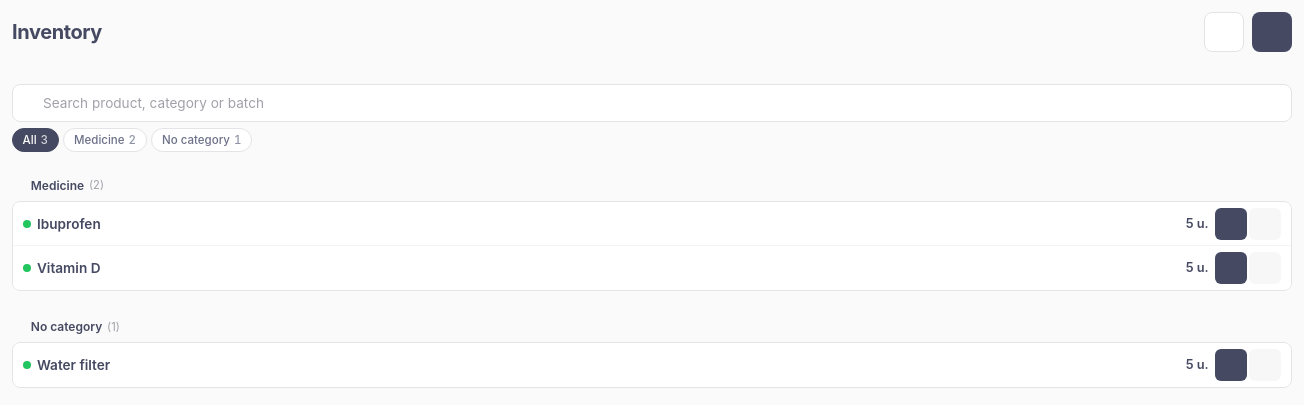
Test case: InventoryPage — grouping › renders stocks grouped by category with collapsible sections
Expected: the text "Ibuprofen" is shown, x1=37 y1=216 x2=101 y2=232
Expected: the text "Water filter" is shown, x1=37 y1=357 x2=110 y2=373
Click the 2nd text "Medicine" at (58,186), box x1=31 y1=178 x2=84 y2=193
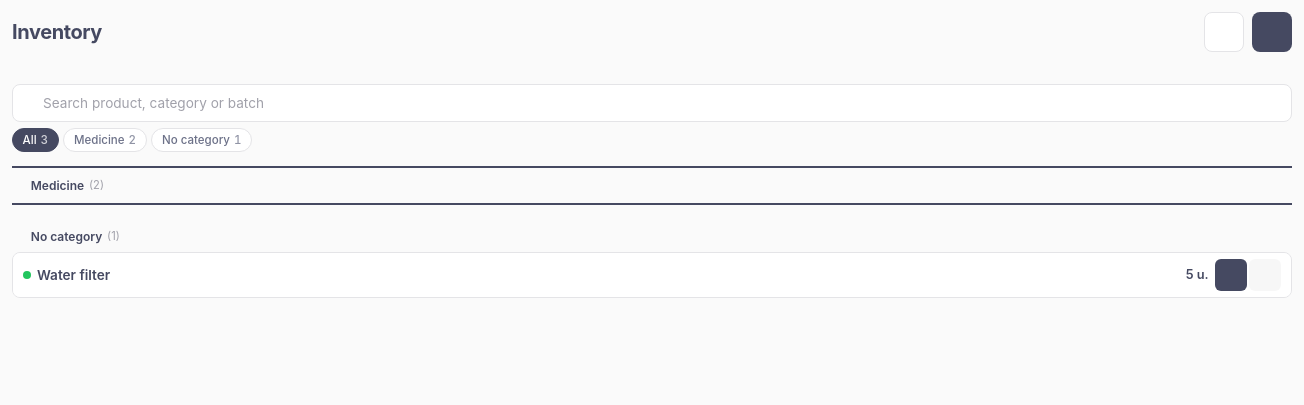
Expected: the text "Water filter" is shown, x1=37 y1=267 x2=110 y2=283
Now the text "Ibuprofen" is gone
